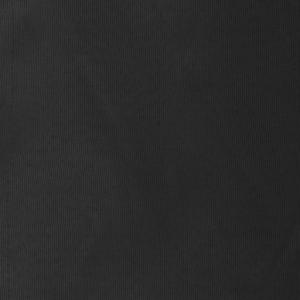Wrinkle: (181, 64, 300, 278), (66, 49, 168, 246)
